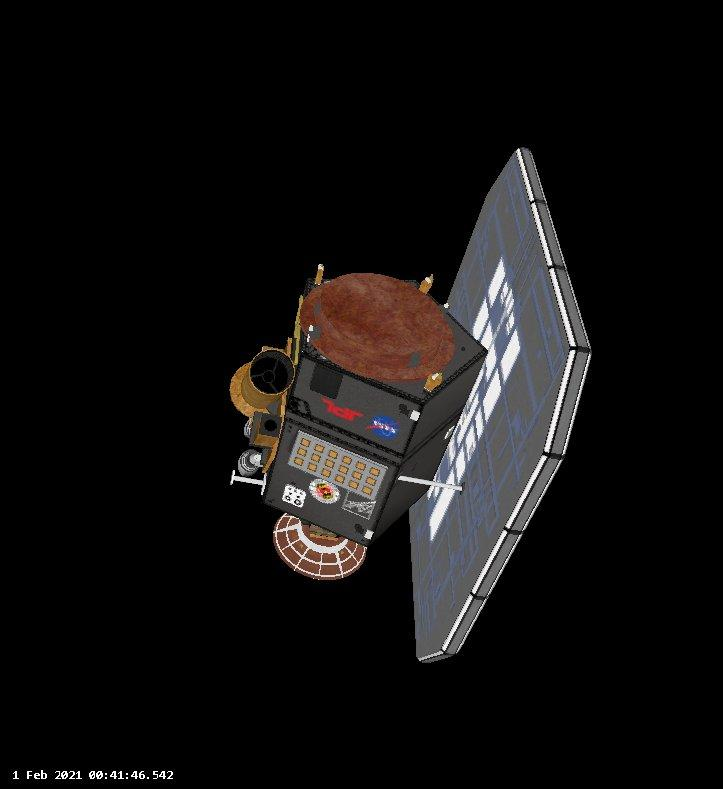antenna: (270, 506, 369, 583)
body: (261, 269, 491, 550)
solar: (406, 145, 595, 666)
